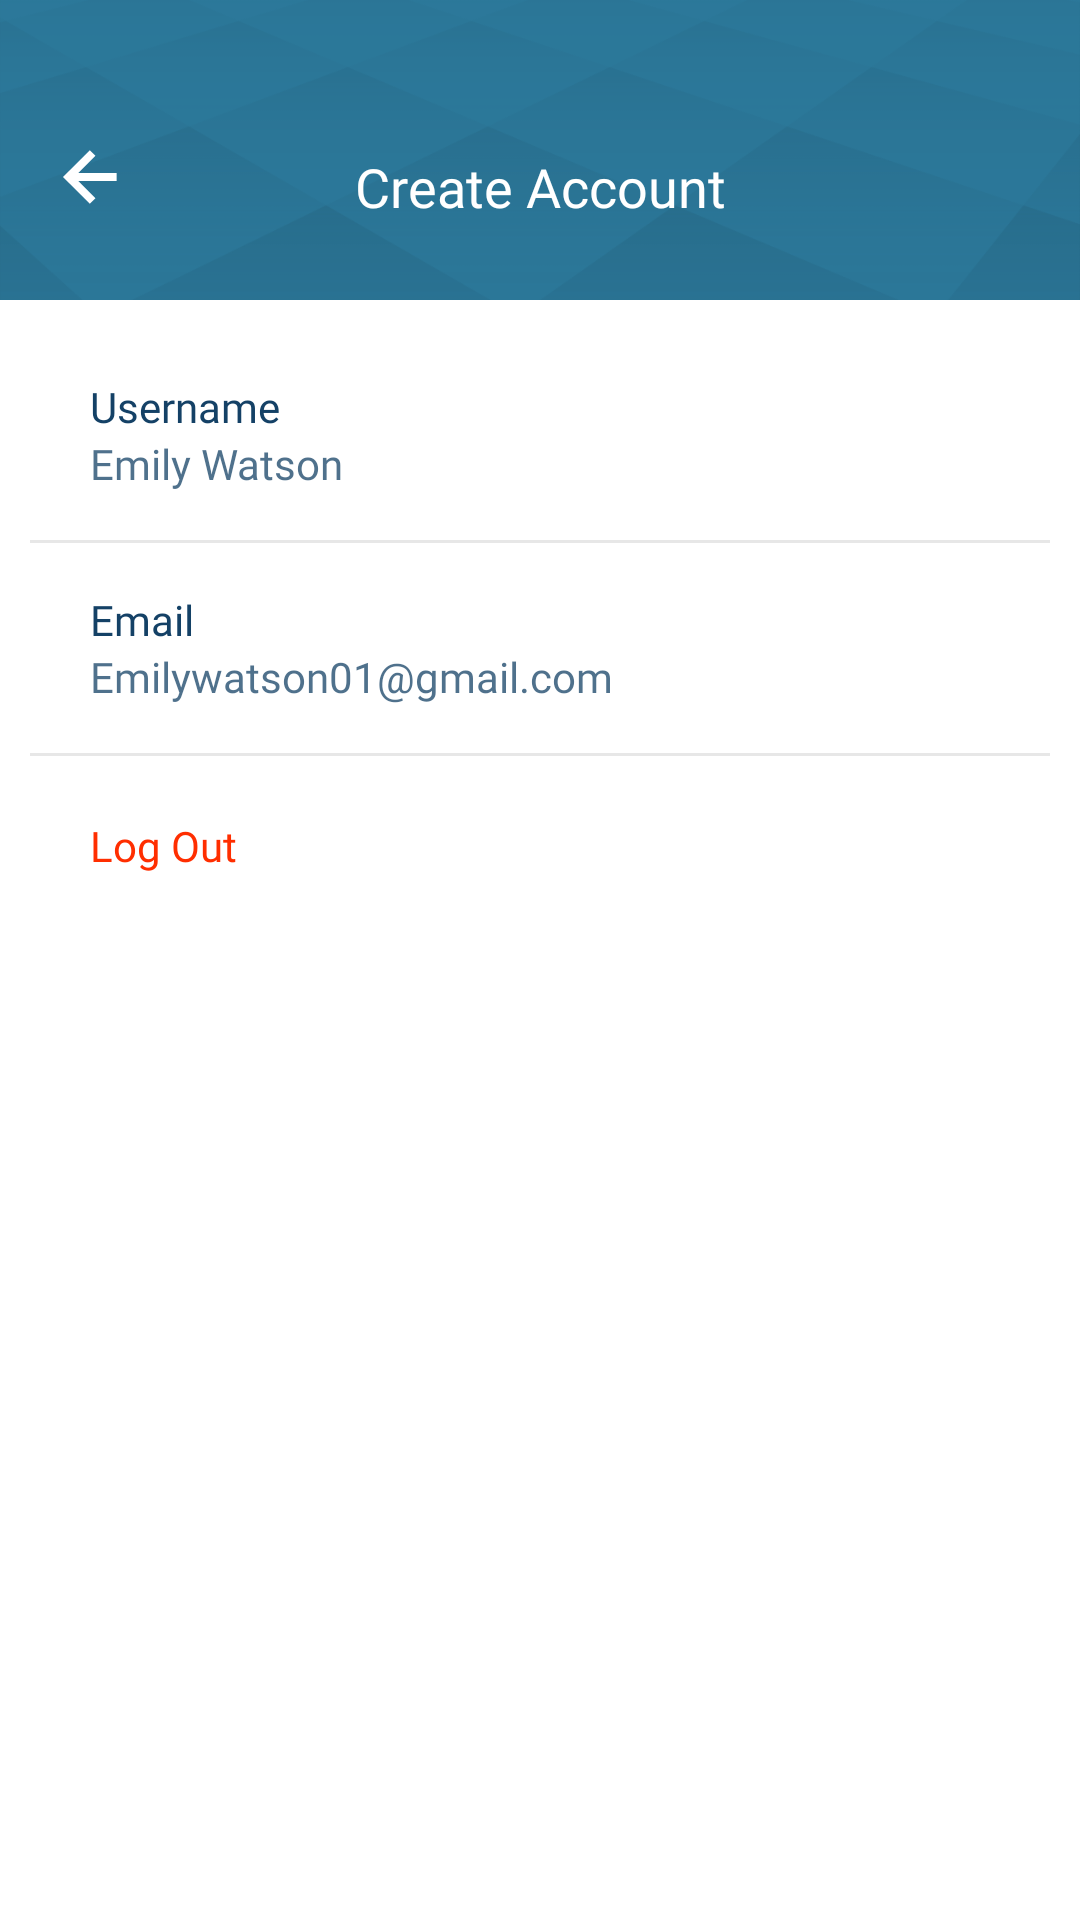

Icon bounding boxes for this 1080 x 1920 phone screenshot, format (left=x1, top=y1, right=x2, bottom=y2):
back: (left=63, top=150, right=117, bottom=204)
